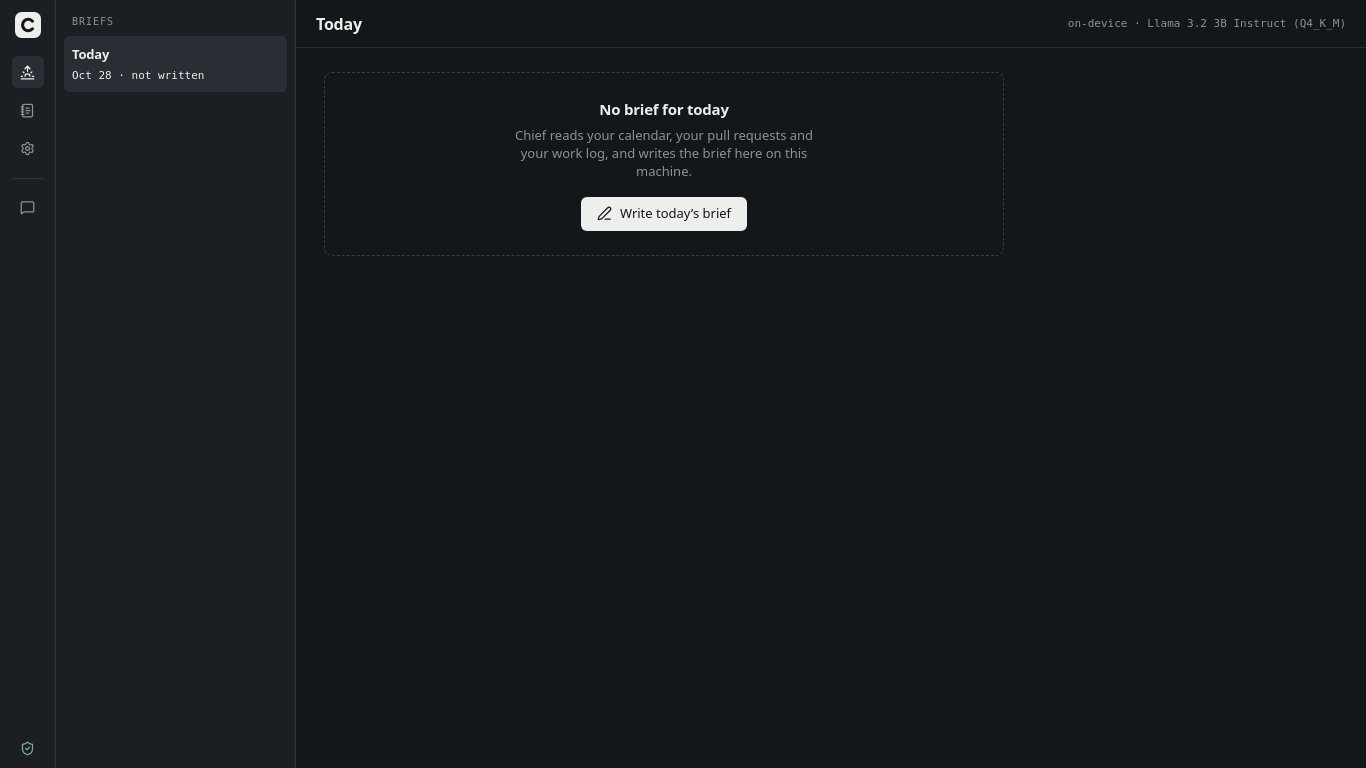
Test: App › switches views from the sidebar
Click the button named "Work Log". click: coordinates (28, 110)
box: [12,94,44,126]
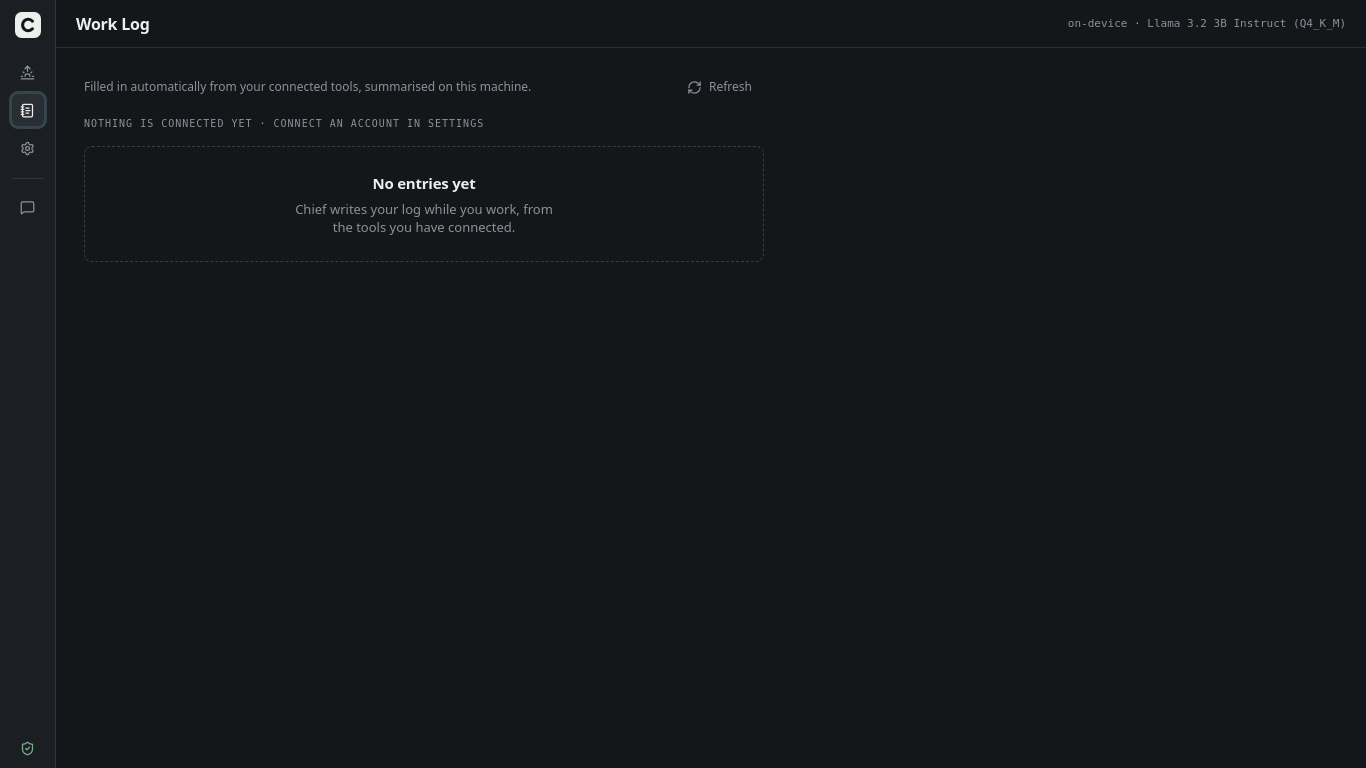
expect the heading "Work Log" is shown: met, box [76,12,150,36]
expect the heading "No entries yet" is shown: met, box [372,173,476,193]
